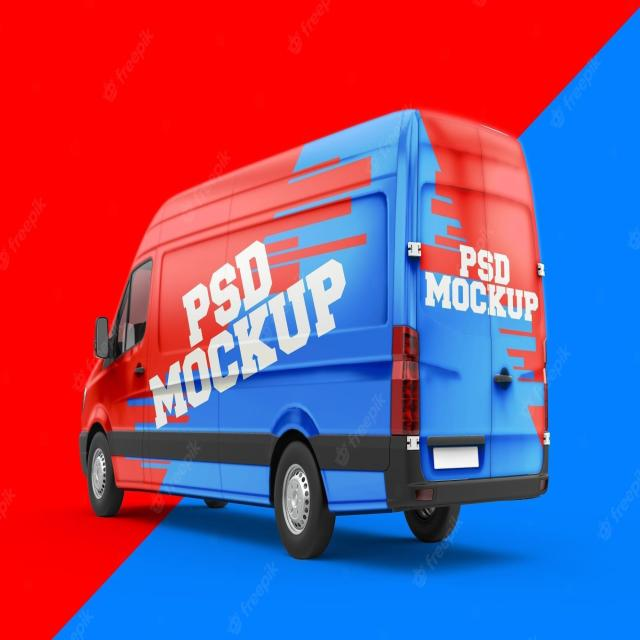Van: (80, 96, 561, 556)
